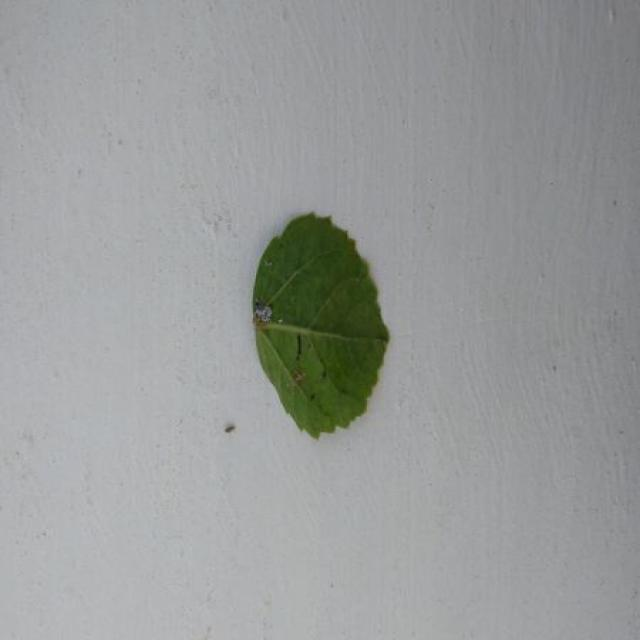Hibiscus: (253, 214, 388, 437)
